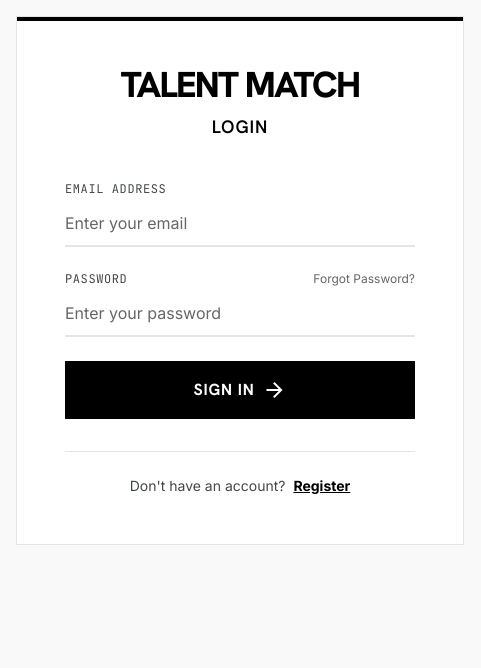
Test: Login Error Mapping › displays generic server error message on HTTP 5xx
In the field with placeholder "Enter your email": {"x": 240, "y": 224} [65, 201, 415, 247], type "user@talentmatch.com"
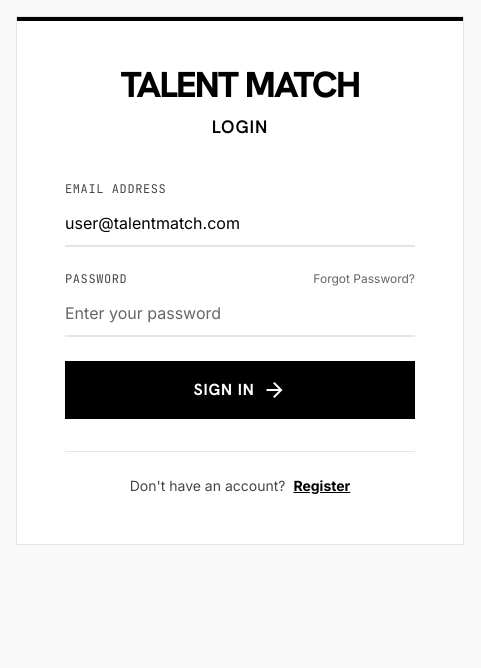
In the password field with placeholder "Enter your password": {"x": 240, "y": 314} [65, 291, 415, 337], type "password123"
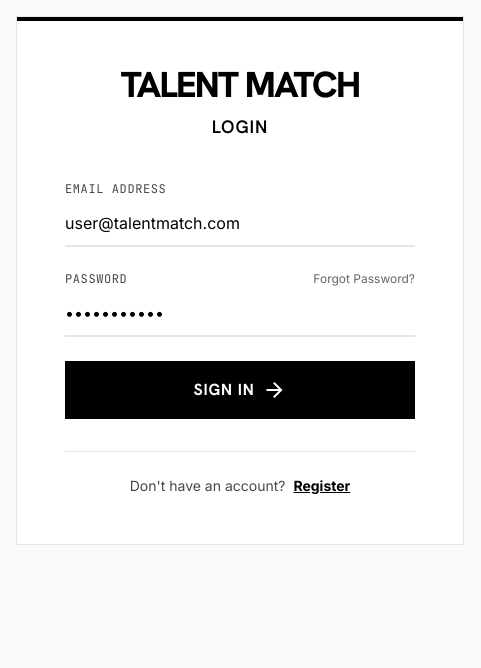
Click the button "SIGN IN": {"x": 240, "y": 390} [65, 361, 415, 419]
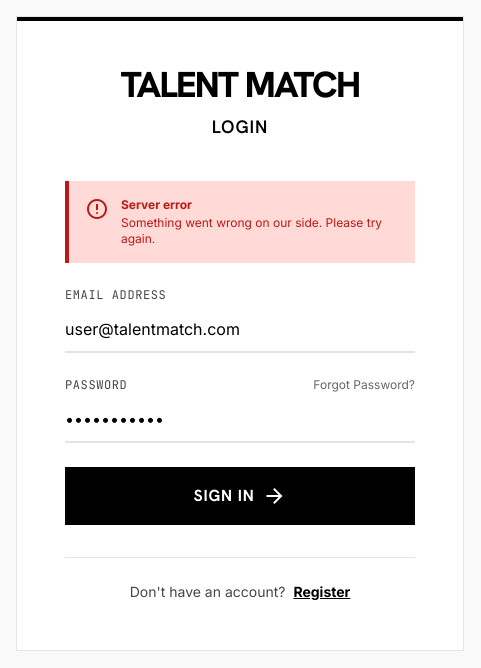
Now the text "Something went wrong on our side. Please try again." is shown, box [121, 215, 399, 247]
